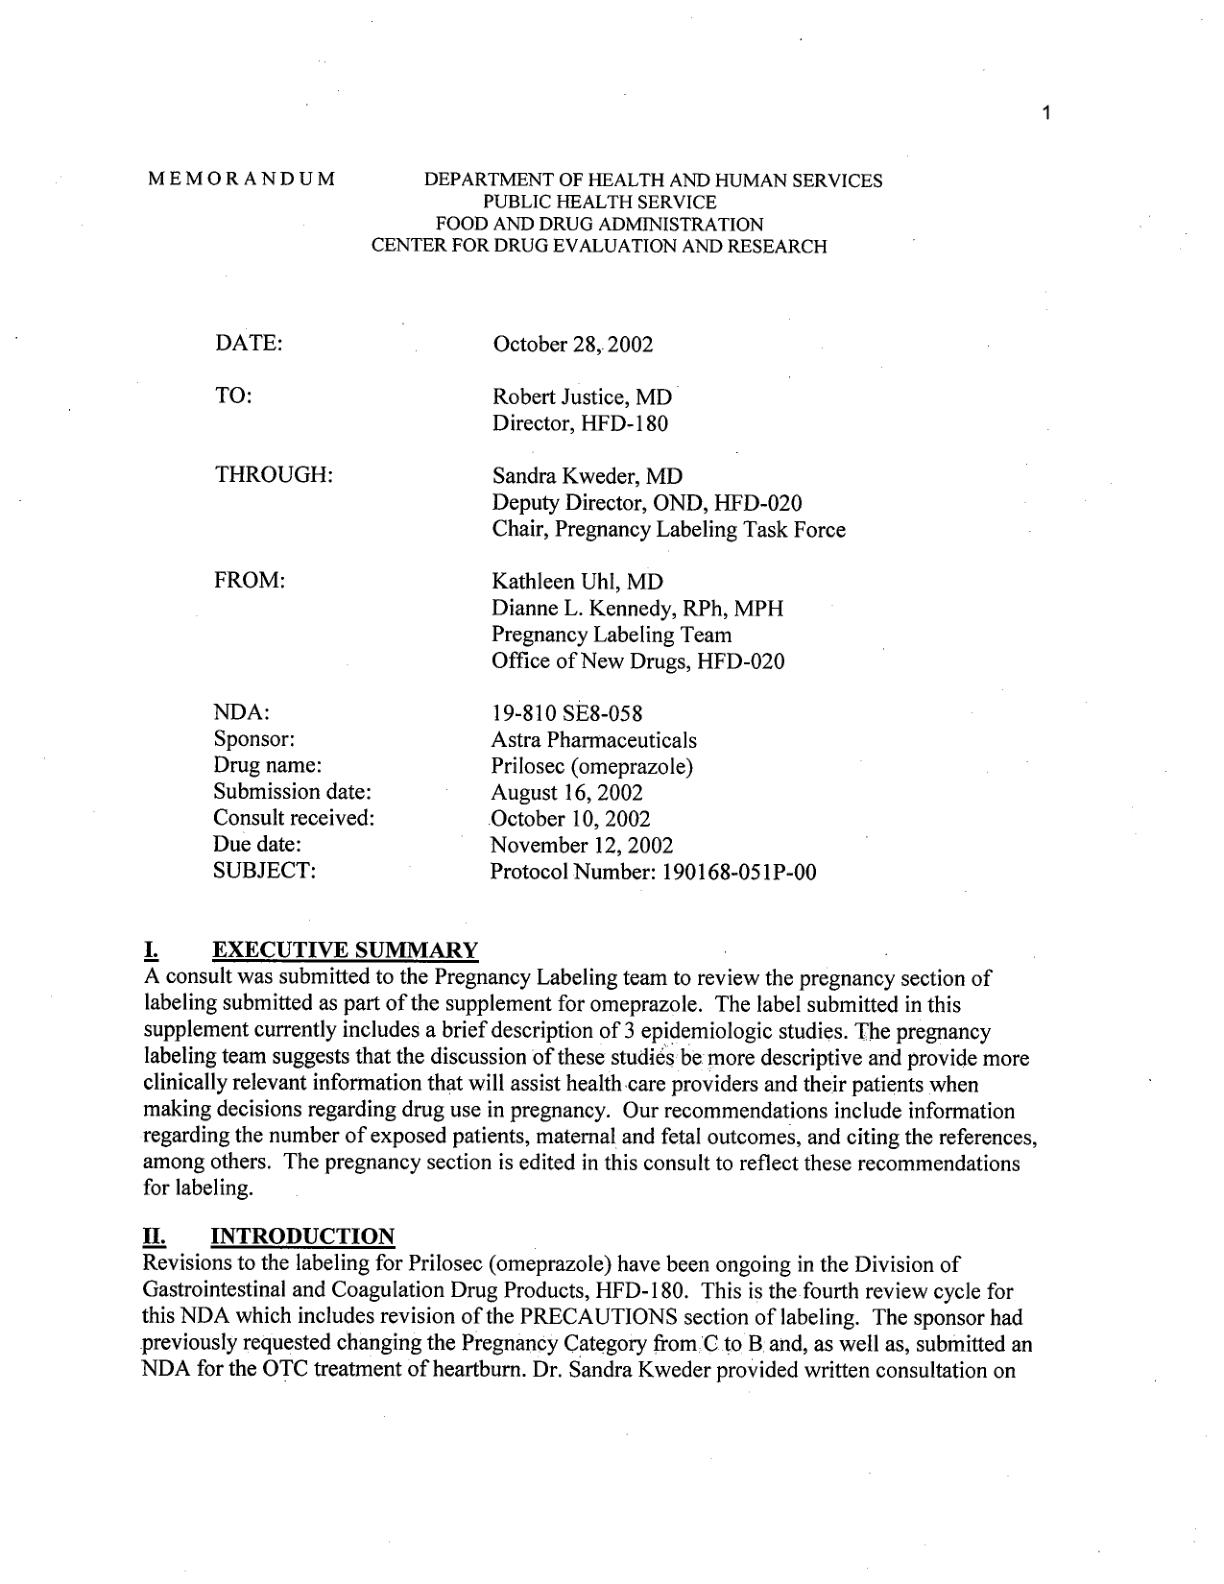nolines: (211, 330, 852, 882)
